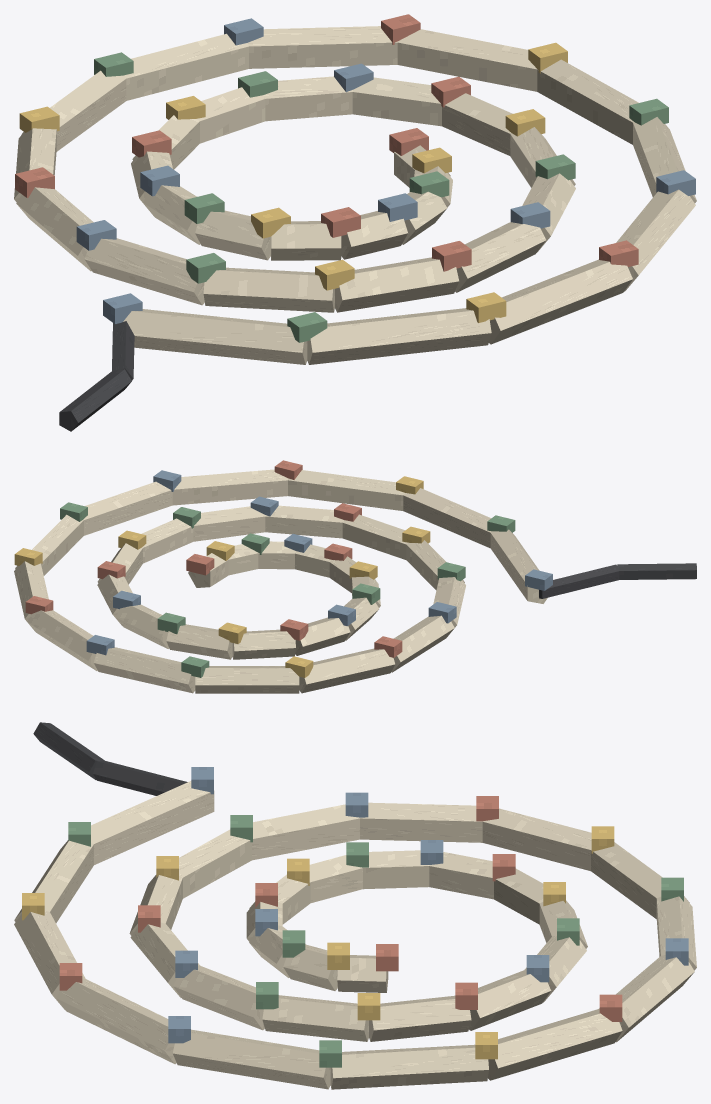
Rendered from lightstrip_inactive.glb.
The picture shows the model from 3 angles, top to bottom: view 1: azimuth 30°, elevation 25°; view 2: azimuth 150°, elevation 25°; view 3: azimuth 270°, elevation 25°; orthographic projection. The views are drawn at different scales.
Parts seen in each view (by area): view 1: block_colored LED package (×32), block_coiled flexible LED strip 29, block_coiled flexible LED strip 30, block_coiled flexible LED strip 23, block_coiled flexible LED strip 28, block_coiled flexible LED strip 24, block_coiled flexible LED strip 17, block_coiled flexible LED strip 22, block_coiled flexible LED strip 16, block_coiled flexible LED strip 18, block_coiled flexible LED strip 25, block_coiled flexible LED strip 11 (+21 smaller); view 2: block_colored LED package (×32), block_coiled flexible LED strip 28, block_coiled flexible LED strip 27, block_coiled flexible LED strip 21, block_coiled flexible LED strip 22, block_coiled flexible LED strip 29, block_coiled flexible LED strip 26, block_coiled flexible LED strip 20, block_coiled flexible LED strip 15, block_coiled flexible LED strip 14, block_coiled flexible LED strip 23, block_coiled flexible LED strip 16 (+21 smaller); view 3: block_colored LED package (×19), block_coiled flexible LED strip 25, block_coiled flexible LED strip 26, block_coiled flexible LED strip 24, block_coiled flexible LED strip 30, block_coiled flexible LED strip 27, block_coiled flexible LED strip 19, block_coiled flexible LED strip 20, block_coiled flexible LED strip 18, block_coiled flexible LED strip 13, block_coiled flexible LED strip 12, block_coiled flexible LED strip 14 (+21 smaller).
Boxes of the visible parts, x1=… form: block_colored LED package (×32): x1=15, y1=14, x2=695, y2=342; block_coiled flexible LED strip 29: x1=307, y1=308, x2=491, y2=364; block_coiled flexible LED strip 30: x1=123, y1=309, x2=307, y2=364; block_coiled flexible LED strip 23: x1=247, y1=26, x2=397, y2=68; block_coiled flexible LED strip 28: x1=489, y1=259, x2=632, y2=344; block_coiled flexible LED strip 24: x1=397, y1=29, x2=537, y2=91; block_coiled flexible LED strip 17: x1=203, y1=267, x2=334, y2=312; block_coiled flexible LED strip 22: x1=123, y1=33, x2=248, y2=100; block_coiled flexible LED strip 16: x1=335, y1=257, x2=459, y2=312; block_coiled flexible LED strip 18: x1=84, y1=238, x2=204, y2=305; block_coiled flexible LED strip 25: x1=537, y1=59, x2=638, y2=144; block_coiled flexible LED strip 11: x1=352, y1=77, x2=441, y2=126; block_colored LED package (×32): x1=14, y1=460, x2=552, y2=677; block_coiled flexible LED strip 28: x1=288, y1=470, x2=404, y2=510; block_coiled flexible LED strip 27: x1=172, y1=469, x2=287, y2=505; block_coiled flexible LED strip 21: x1=195, y1=666, x2=299, y2=693; block_coiled flexible LED strip 22: x1=94, y1=647, x2=195, y2=693; block_coiled flexible LED strip 29: x1=403, y1=488, x2=492, y2=548; block_coiled flexible LED strip 26: x1=83, y1=481, x2=172, y2=535; block_coiled flexible LED strip 20: x1=299, y1=648, x2=395, y2=693; block_coiled flexible LED strip 15: x1=265, y1=505, x2=343, y2=538; block_coiled flexible LED strip 14: x1=193, y1=506, x2=265, y2=541; block_coiled flexible LED strip 23: x1=27, y1=610, x2=97, y2=670; block_coiled flexible LED strip 16: x1=342, y1=514, x2=408, y2=559; block_colored LED package (×19): x1=59, y1=792, x2=622, y2=1067; block_coiled flexible LED strip 25: x1=330, y1=1044, x2=488, y2=1089; block_coiled flexible LED strip 26: x1=172, y1=1029, x2=330, y2=1089; block_coiled flexible LED strip 24: x1=488, y1=1009, x2=622, y2=1080; block_coiled flexible LED strip 30: x1=91, y1=781, x2=214, y2=864; block_coiled flexible LED strip 27: x1=56, y1=978, x2=176, y2=1064; block_coiled flexible LED strip 19: x1=360, y1=802, x2=482, y2=842; block_coiled flexible LED strip 20: x1=482, y1=808, x2=591, y2=871; block_coiled flexible LED strip 18: x1=252, y1=804, x2=359, y2=860; block_coiled flexible LED strip 13: x1=262, y1=995, x2=368, y2=1041; block_coiled flexible LED strip 12: x1=369, y1=995, x2=471, y2=1041; block_coiled flexible LED strip 14: x1=173, y1=965, x2=264, y2=1030.
Size of the model in its own units: 0.354 by 0.0191 by 0.2935.
Materials: 1 (1 with a texture image).
